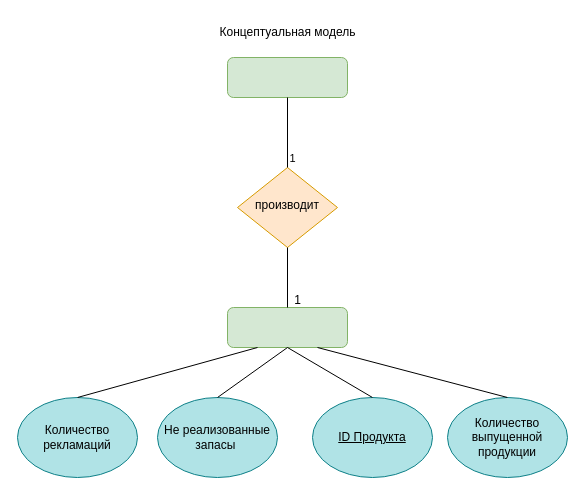
The diagram is 585 pixels wide and 495 high, and some of its shapes have lost their labels. The centre of each missing label's shape, as x and y in pixels:
Компания: (287,77)
продукцию: (287,327)
